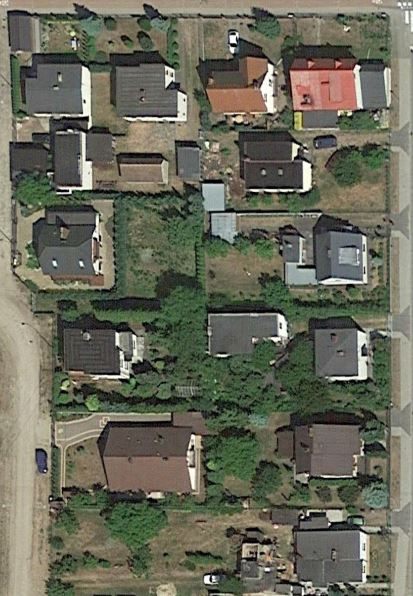family house: (98, 418, 206, 496), (288, 50, 396, 116), (6, 125, 99, 194), (274, 419, 368, 484), (36, 204, 107, 285), (58, 322, 144, 382), (291, 527, 374, 589), (198, 310, 290, 364), (19, 60, 99, 122), (113, 60, 188, 124), (205, 56, 278, 119), (235, 138, 315, 194), (311, 230, 370, 288), (312, 326, 370, 382)
garage: (117, 151, 172, 186), (172, 143, 206, 181)
